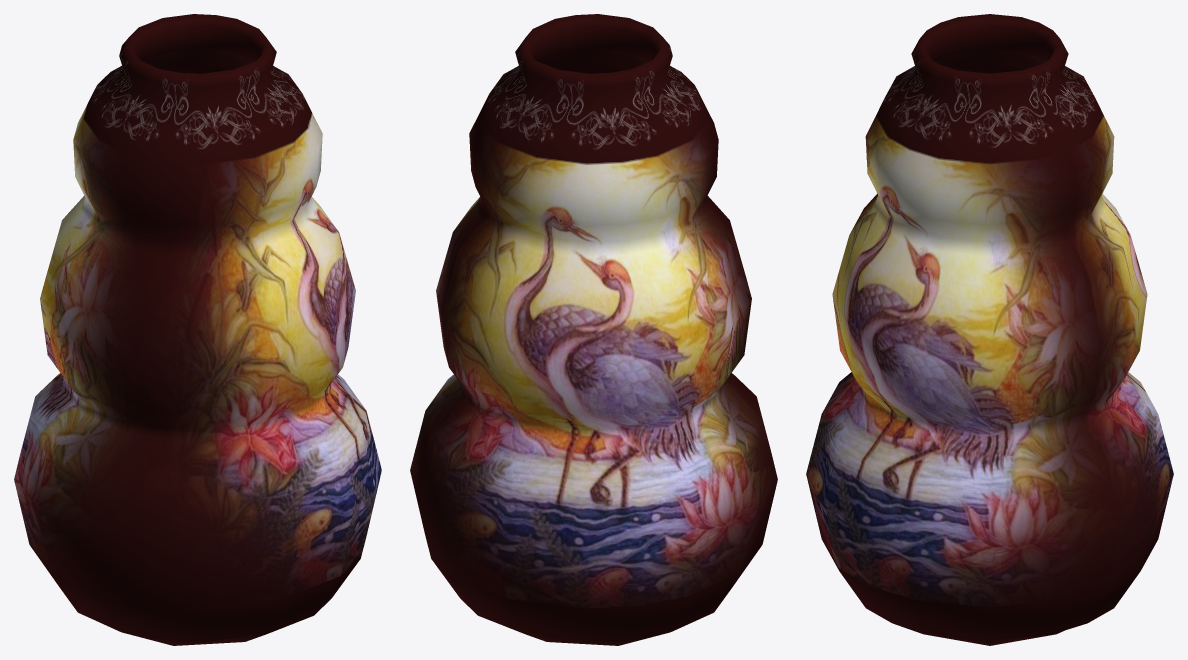
The model's file is JVase_11.fbx.
The picture shows the model from 3 angles, left to right: view 1: azimuth 30°, elevation 25°; view 2: azimuth 150°, elevation 25°; view 3: azimuth 270°, elevation 25°; orthographic projection.
Parts seen in each view (by area): view 1: JVase_11; view 2: JVase_11; view 3: JVase_11.
Boxes of the visible parts, x1,y1,x2,y2 form: JVase_11: (14,14,381,645); JVase_11: (410,14,777,645); JVase_11: (806,14,1173,645).
Bounding box in the file's own units: 58.58 × 98.85 × 58.58.
